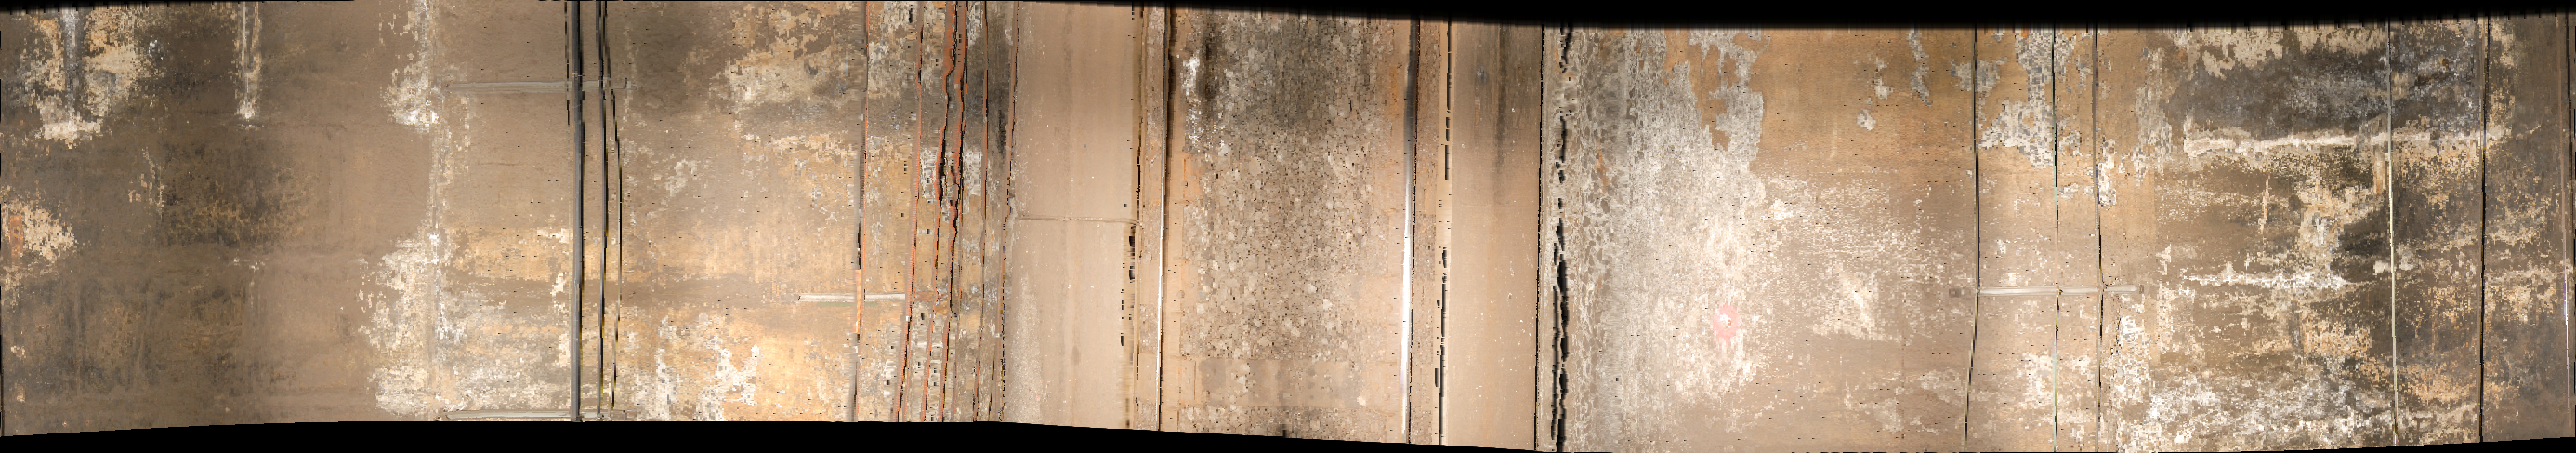pipes: (565, 3, 631, 453), (2382, 18, 2408, 453), (1966, 31, 1993, 453), (2090, 26, 2114, 453), (2474, 20, 2494, 453)
tracks: (1000, 8, 1567, 451)
